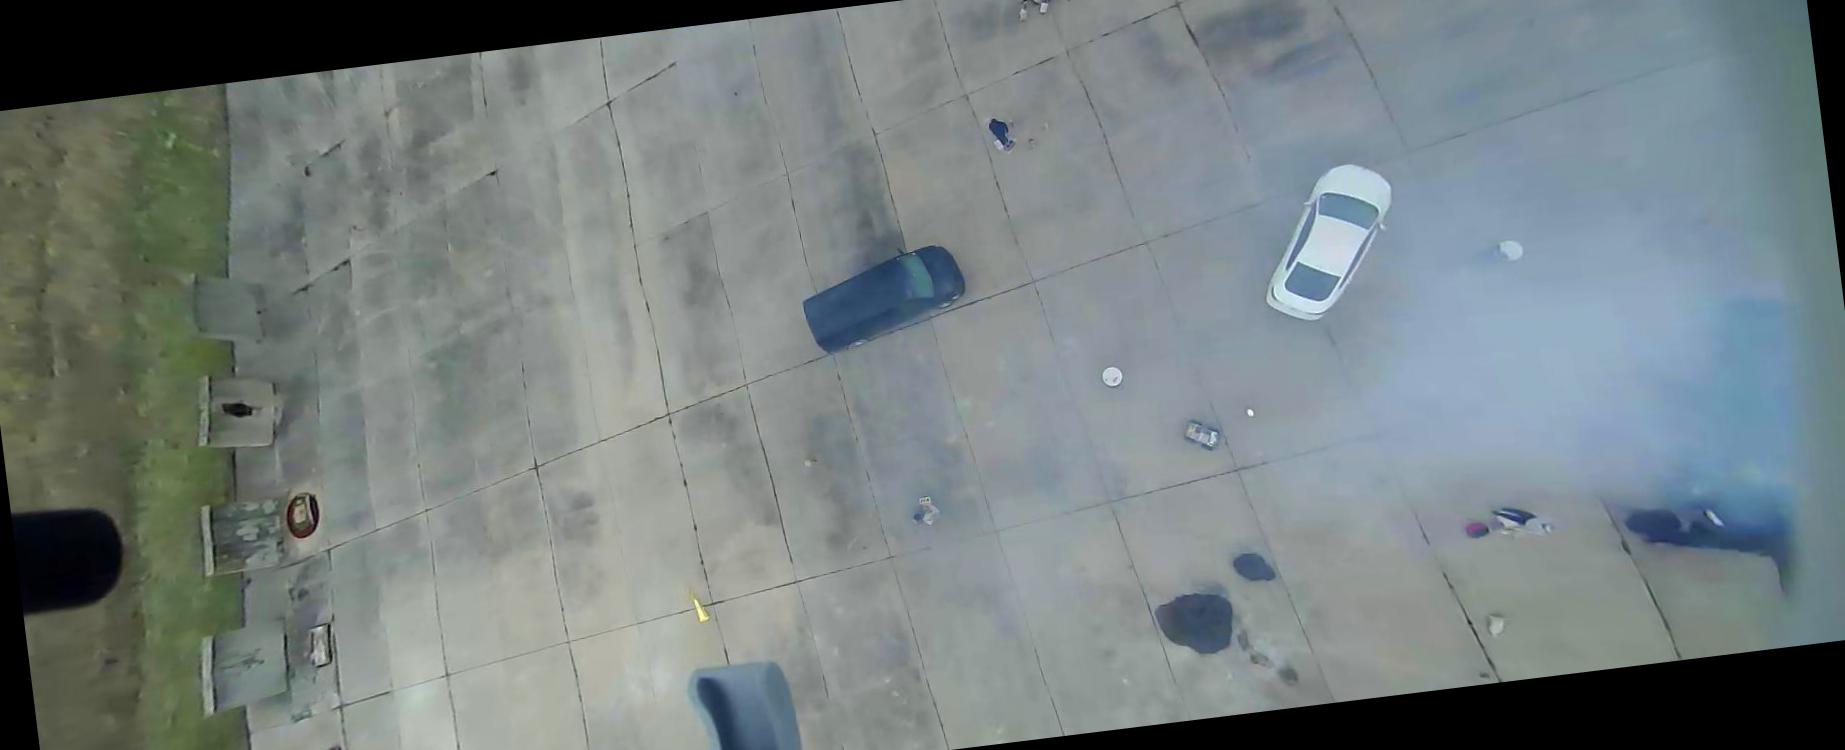vehicle: (1665, 284, 1844, 540), (1248, 158, 1408, 326), (795, 240, 973, 358), (1181, 416, 1223, 453)
